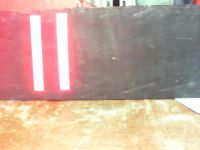switch: (55, 13, 71, 90), (29, 15, 44, 91)
